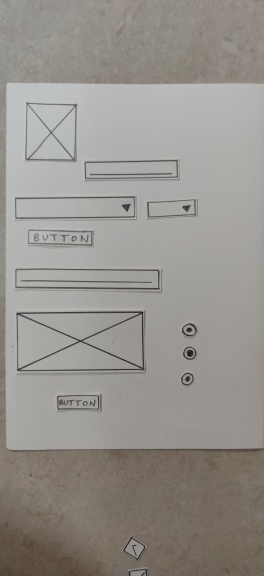button: (23, 226, 99, 252), (53, 391, 106, 414)
dropdown: (11, 193, 141, 223), (144, 195, 206, 219)
img: (11, 307, 149, 376), (21, 99, 81, 167)
radio: (178, 370, 199, 390), (178, 321, 201, 339), (179, 344, 201, 362)
text: (11, 266, 166, 297), (83, 157, 181, 182)
